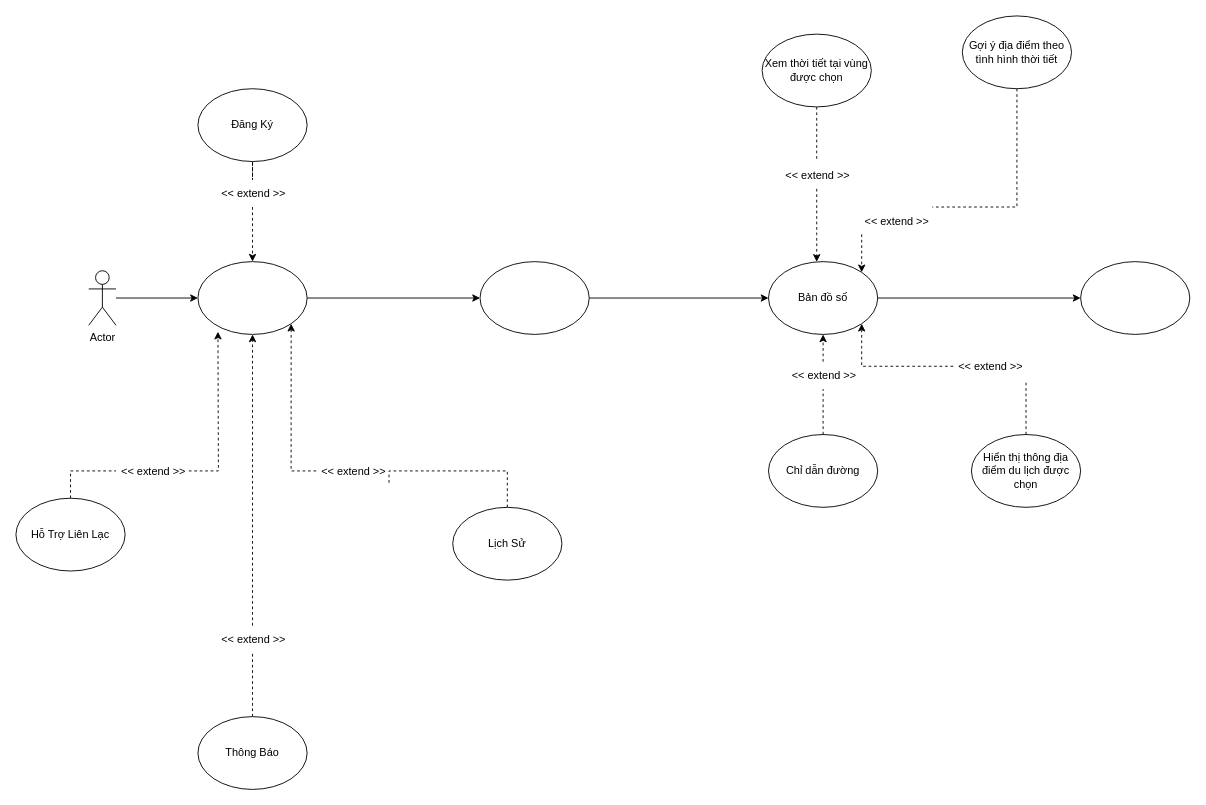
This 1206x805 diagram has some shape labels left out. Here are the shapes that lost their labels. From the top down, the centre of each, then its label:
the point at 252,297: Đăng nhập
the point at 534,297: Check cảm xúc
the point at 1135,297: Hiển thị các địa điểm du lịch phù hợp
